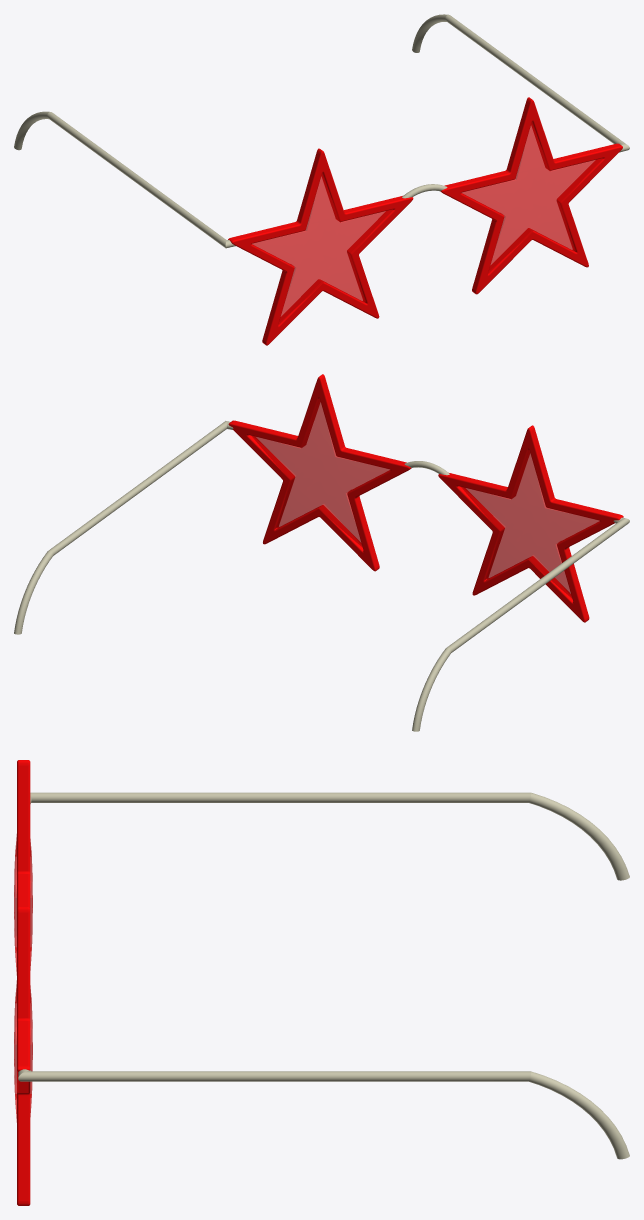
The picture shows the model from 3 angles, top to bottom: view 1: azimuth 30°, elevation 25°; view 2: azimuth 150°, elevation 25°; view 3: azimuth 270°, elevation 25°; orthographic projection. The views are drawn at different scales.
Parts seen in each view (by area): view 1: glasses; view 2: glasses; view 3: glasses.
Part boxes in pixels (x1,y1,x2,y2): glasses: (14,14,629,345); glasses: (14,374,629,731); glasses: (14,760,629,1205).
Size of the model in its own units: 7.54 by 3.22 by 6.93.
